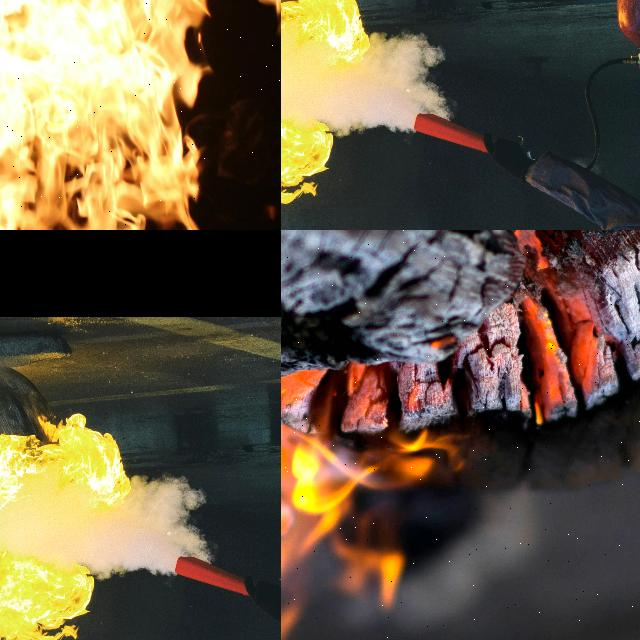fire: (281, 230, 640, 483), (0, 0, 205, 230)
smoke: (315, 37, 448, 137), (76, 480, 208, 580)
